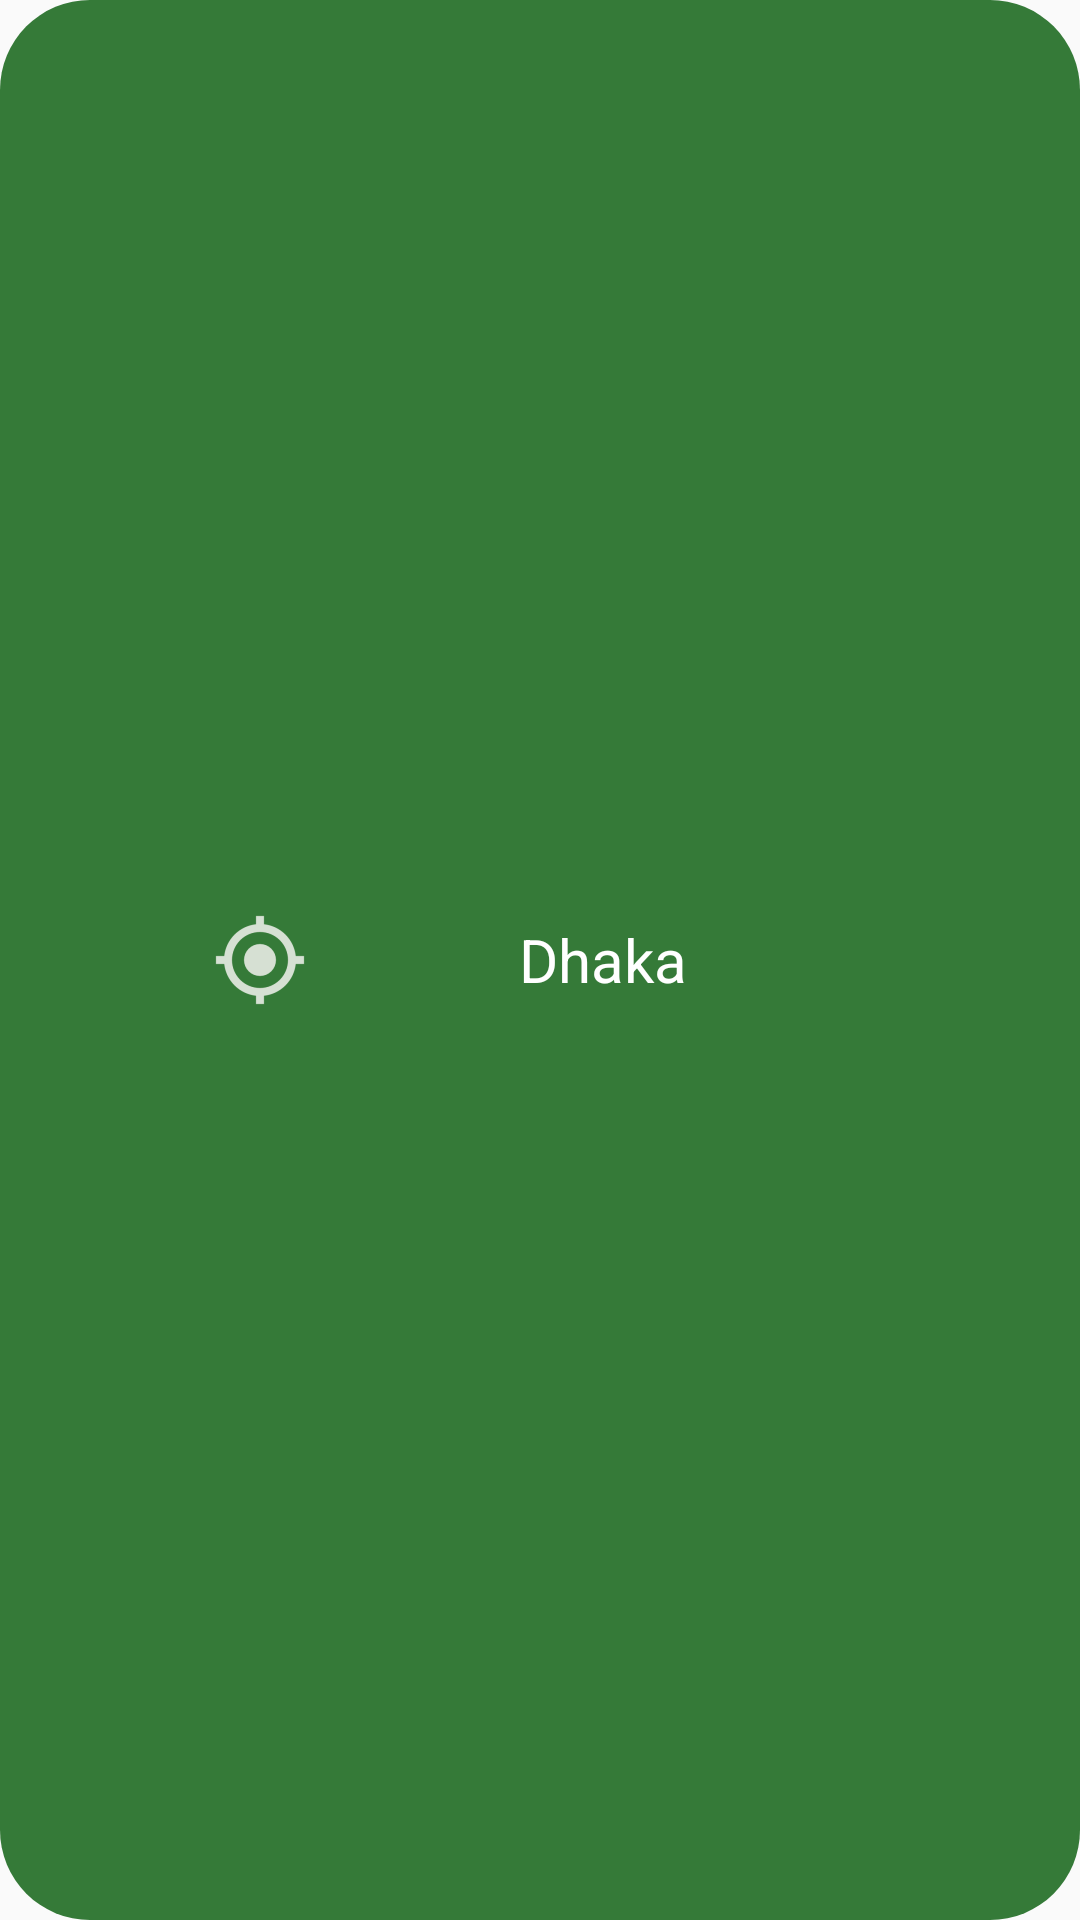

Screen size 1080px×1920px. Icon name, then its box in pixels as BBox(x1, y1, x2, y2):
location: BBox(216, 916, 304, 1004)
